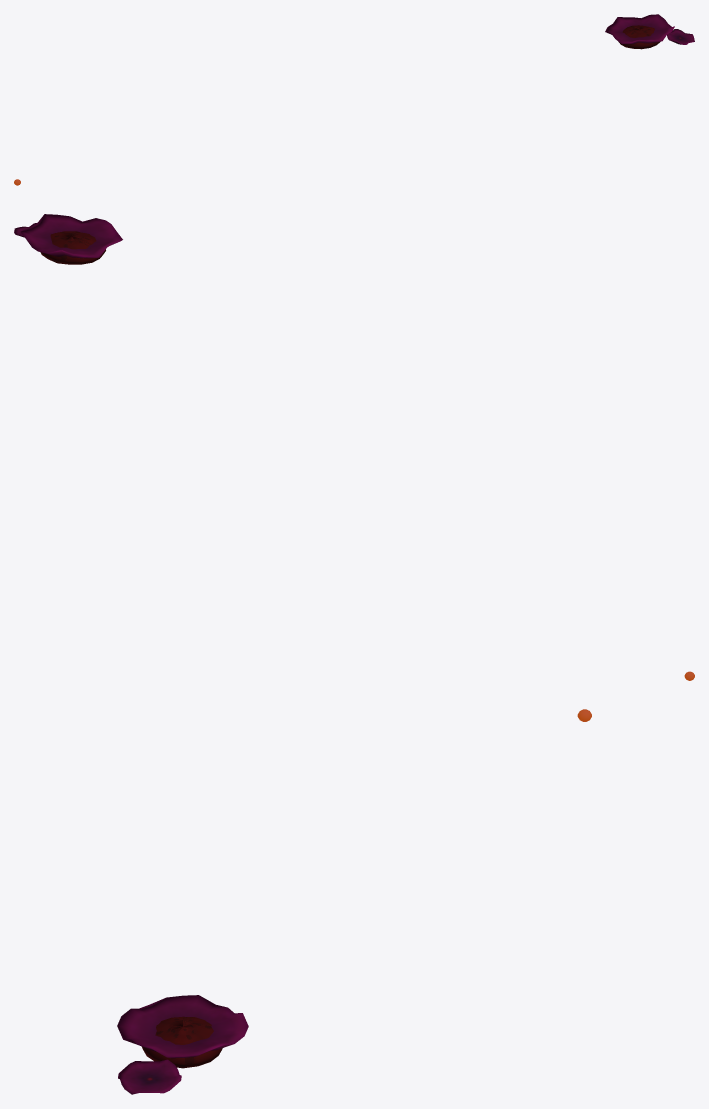
The model's file is bounce_mushroom.glb.
3 renders of one model, top to bottom at view 1: azimuth 30°, elevation 25°; view 2: azimuth 150°, elevation 25°; view 3: azimuth 270°, elevation 25°, orthographic. The views are drawn at different scales.
Parts seen in each view (by area): view 1: Body; view 2: Body; view 3: Body.
Boxes of the visible parts, left/top/right/bottom form: Body: left=605, top=14, right=694, bottom=49; Body: left=14, top=214, right=122, bottom=264; Body: left=117, top=995, right=248, bottom=1094.
Size of the model in its own units: 65.6 by 11.57 by 23.63.
Materials: 3 (3 with a texture image).
